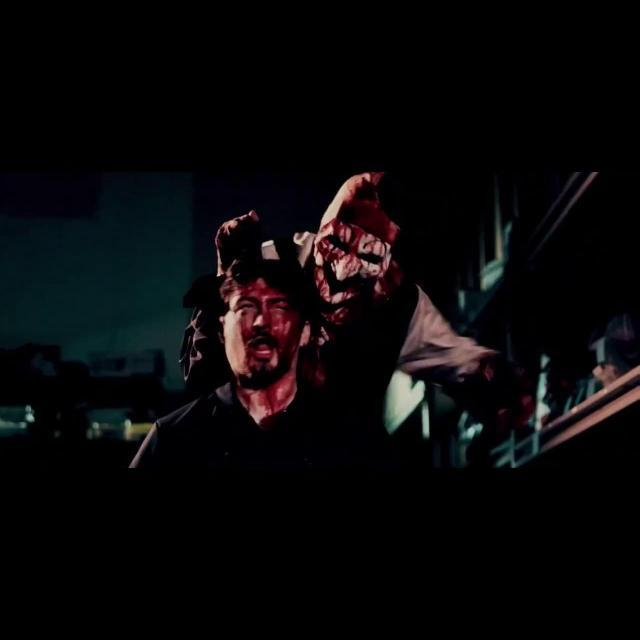blood: (220, 172, 401, 422)
